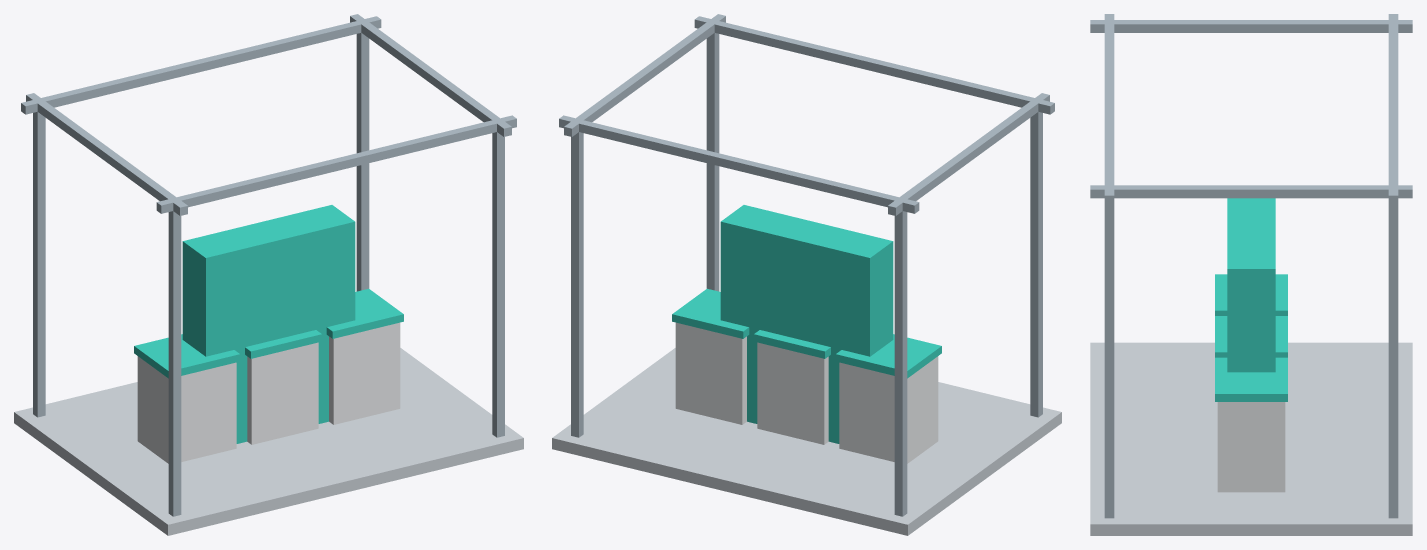
3 views of the same model, side by side, from view 1: azimuth 30°, elevation 25°; view 2: azimuth 150°, elevation 25°; view 3: azimuth 270°, elevation 25° (orthographic). The views are drawn at different scales.
Visible parts, largest first — view 1: Exhibition Booth Concept; view 2: Exhibition Booth Concept; view 3: Exhibition Booth Concept.
Part boxes in pixels (x1,y1,x2,y2): Exhibition Booth Concept: [14, 14, 523, 535]; Exhibition Booth Concept: [552, 14, 1061, 535]; Exhibition Booth Concept: [1090, 14, 1412, 535].
Bounding box in the file's own units: 4 × 3.49 × 3.
